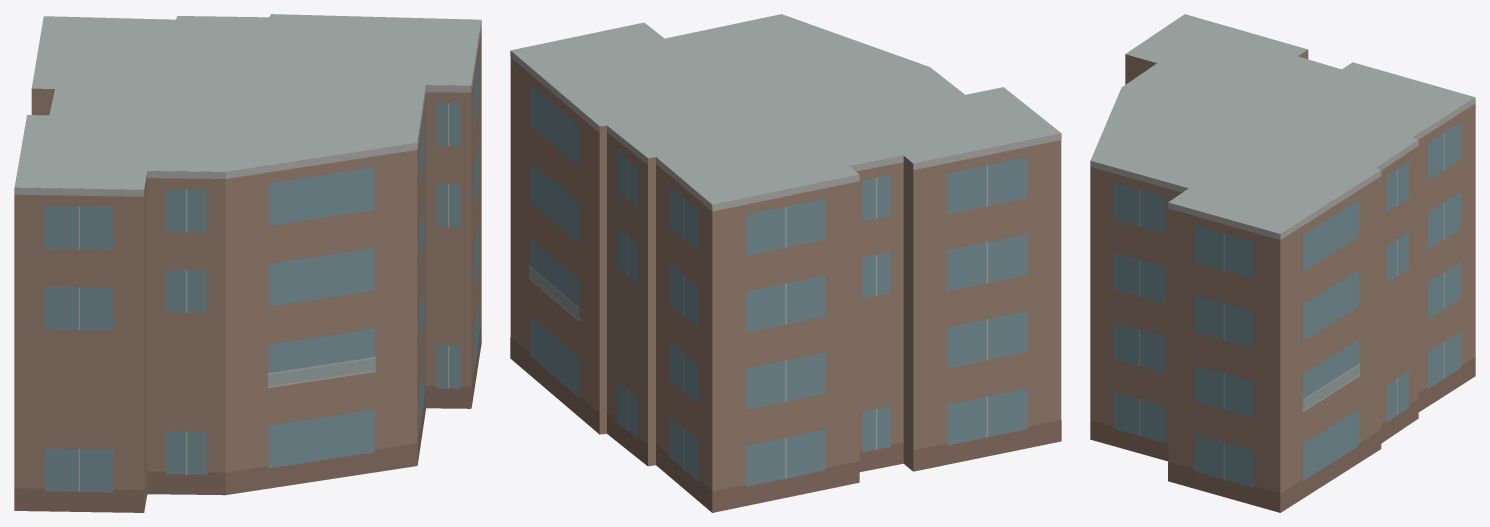
The model's file is survey-upis-32631094.glb.
3 views of the same model, side by side, from view 1: azimuth 30°, elevation 25°; view 2: azimuth 150°, elevation 25°; view 3: azimuth 270°, elevation 25° (orthographic). The views are drawn at different scales.
Visible parts, largest first — view 1: survey-upis-32631094.tmp; view 2: survey-upis-32631094.tmp; view 3: survey-upis-32631094.tmp.
Part boxes in pixels (x1,y1,x2,y2): survey-upis-32631094.tmp: (14, 14, 481, 512); survey-upis-32631094.tmp: (510, 14, 1061, 512); survey-upis-32631094.tmp: (1090, 14, 1475, 512).
Bounding box in the file's own units: 18.93 × 11.18 × 14.01.
